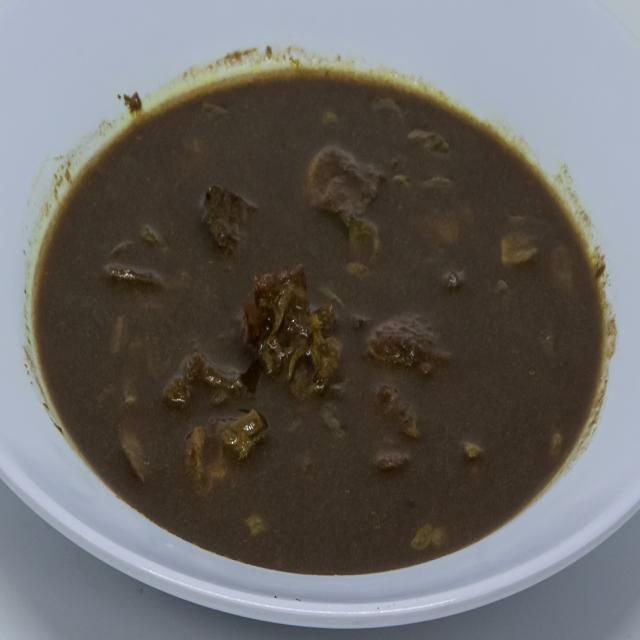Rawon-Surabaya: (21, 42, 617, 579)
